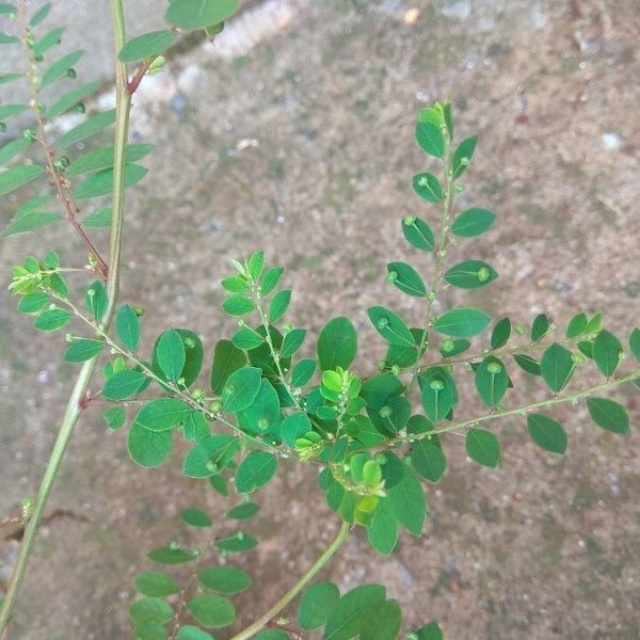obstacle: (49, 105, 577, 516)
